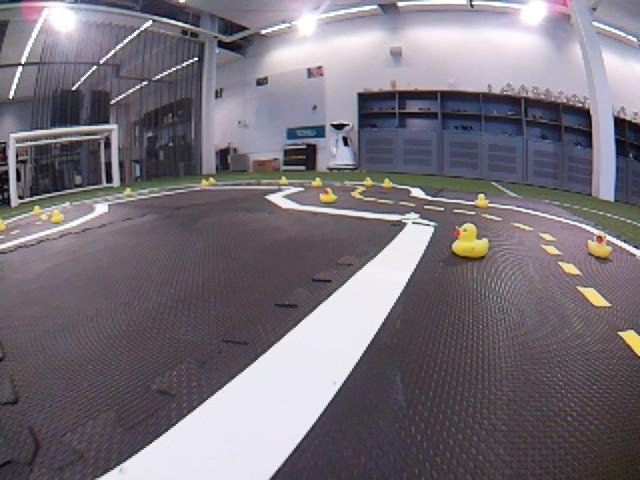Duckies: (451, 223, 491, 257), (586, 232, 614, 257), (319, 187, 337, 203), (474, 193, 491, 207), (50, 210, 64, 222), (382, 178, 393, 188), (311, 178, 323, 186), (363, 177, 373, 186), (32, 206, 42, 214), (0, 219, 6, 232), (124, 187, 133, 195), (279, 176, 288, 184), (201, 179, 210, 185), (209, 177, 216, 184)
